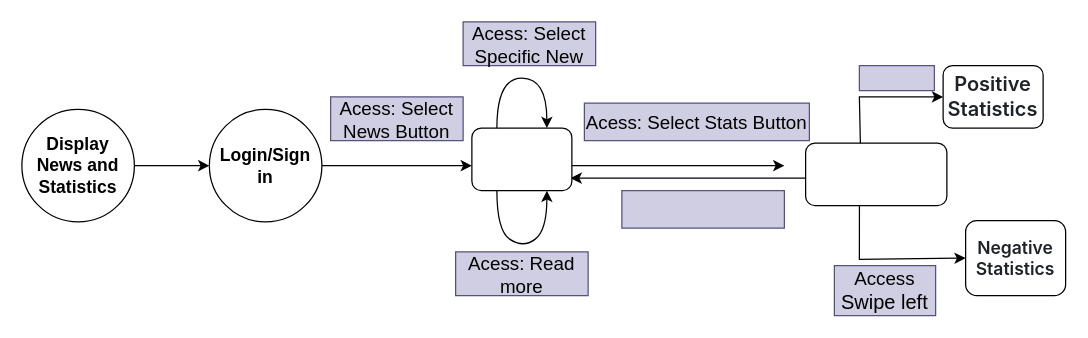
The diagram is 1088 pixels wide and 338 high, and some of its shapes have lost their labels. The shapes that lost their labels are listed below. From the top down, each one's centre as x and y in pixels, then its label:
At point (896, 77): "Access".
At point (521, 159): "News".
At point (875, 174): "Statistics".
At point (702, 208): "Acess: Select Back Button".
